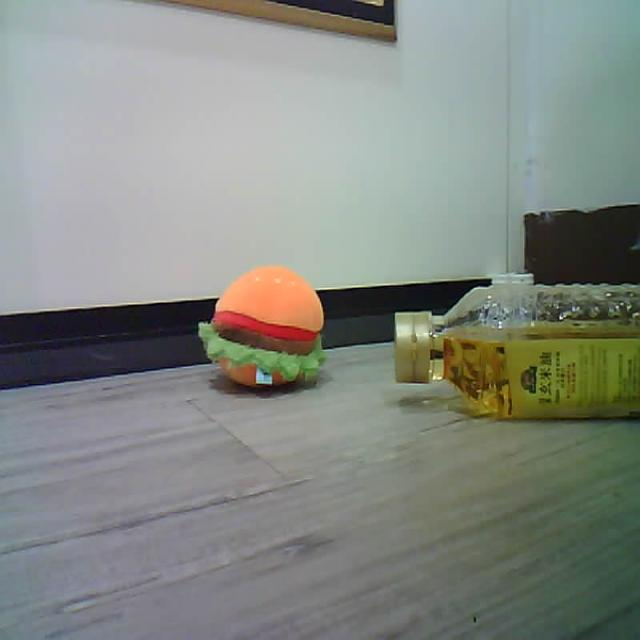bottle: (395, 276, 639, 418)
